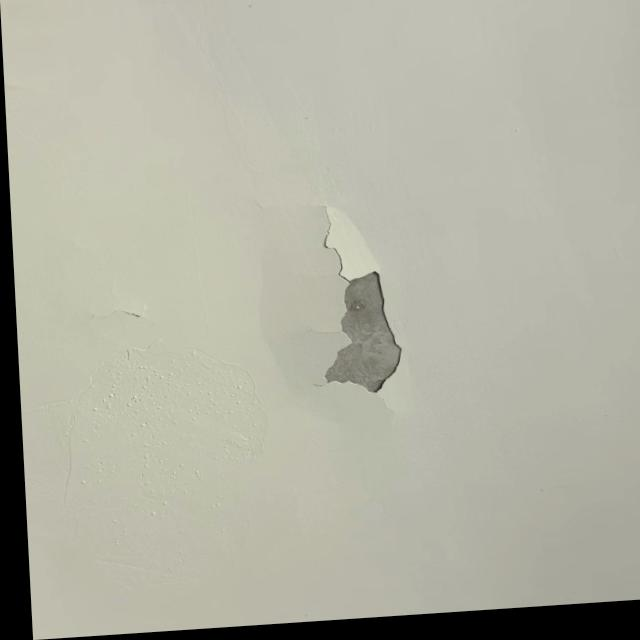spalling: (281, 193, 425, 402)
